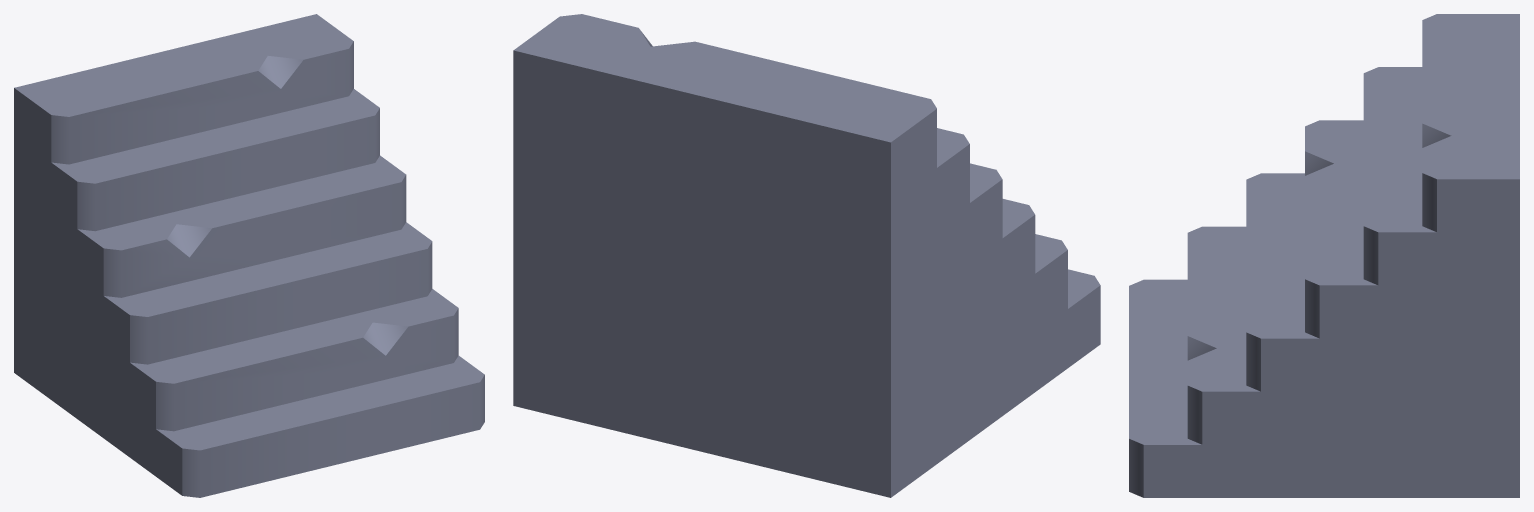
File: stairs.dae
3 renders of one model, left to right at view 1: azimuth 30°, elevation 25°; view 2: azimuth 150°, elevation 25°; view 3: azimuth 270°, elevation 25°, orthographic. The views are drawn at different scales.
Parts seen in each view (by area): view 1: stairs; view 2: stairs; view 3: stairs.
Boxes of the visible parts, <box> form: stairs: <box>14,14,484,497</box>; stairs: <box>513,14,1100,497</box>; stairs: <box>1129,14,1519,497</box>.
Bounding box in the file's own units: 1 × 0.9 × 1.
